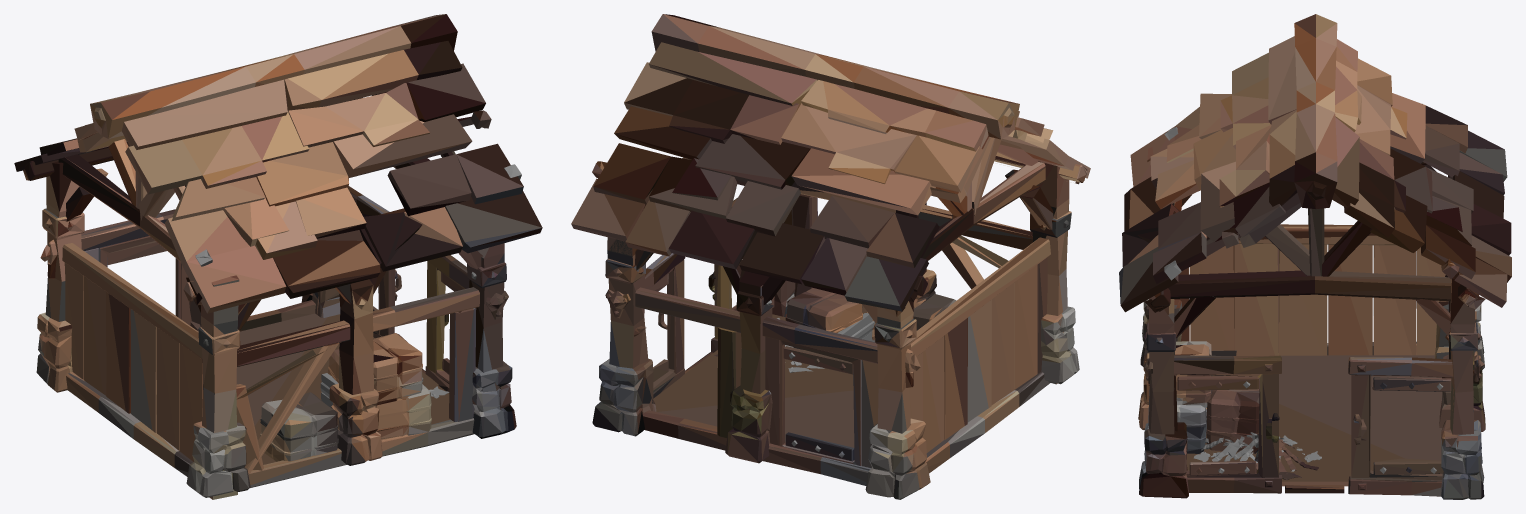
The model's file is Stable.glb.
3 renders of one model, left to right at view 1: azimuth 30°, elevation 25°; view 2: azimuth 150°, elevation 25°; view 3: azimuth 270°, elevation 25°, orthographic. The views are drawn at different scales.
Parts seen in each view (by area): view 1: world; view 2: world; view 3: world.
Boxes of the visible parts, left/top/right/bottom form: world: left=14, top=14, right=542, bottom=499; world: left=571, top=14, right=1090, bottom=499; world: left=1119, top=14, right=1511, bottom=499.
Size of the model in its own units: 0.998 by 0.9512 by 0.998.
